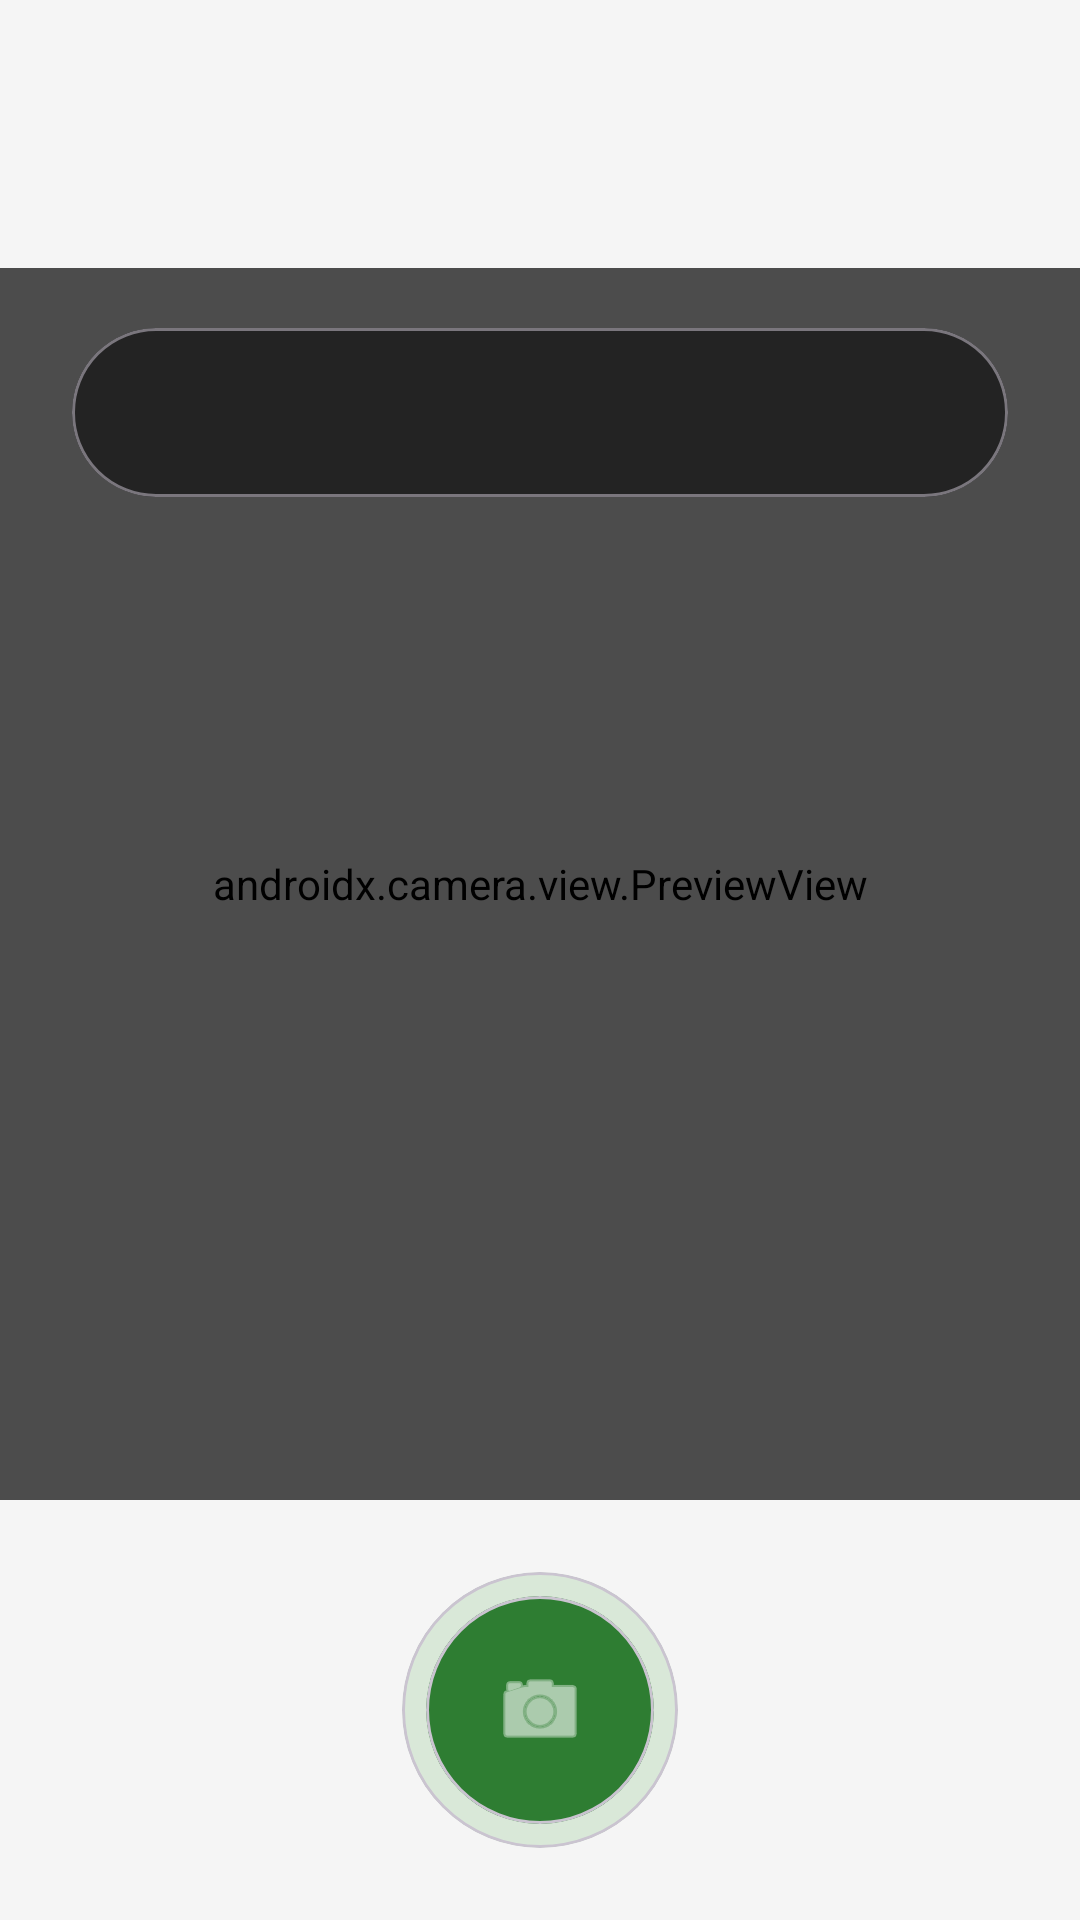

Icon bounding boxes for this 1080px×1920px phone screenshot, format bbox(x1, y1, x2, y2):
Capture: bbox(503, 1679, 577, 1738)
